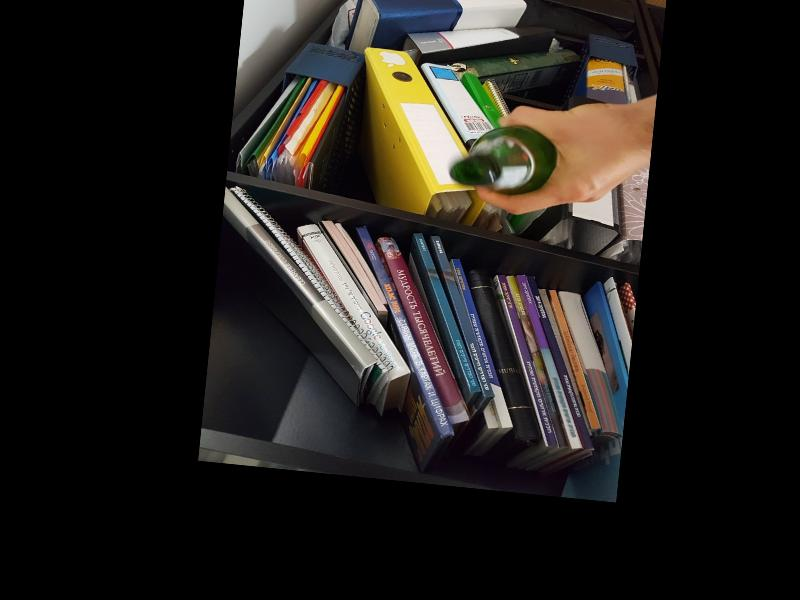Beer: (448, 119, 559, 198)
